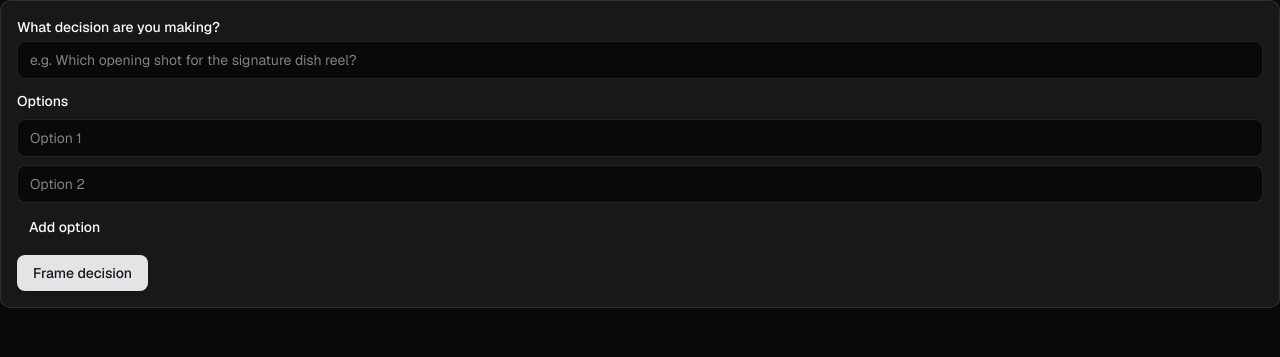
Test: NewDecisionForm › requires a question and at least two options
Type "Which opening?" into the field named "decision question".
click(640, 60); type("Which opening?")  # box [17,41,1263,79]
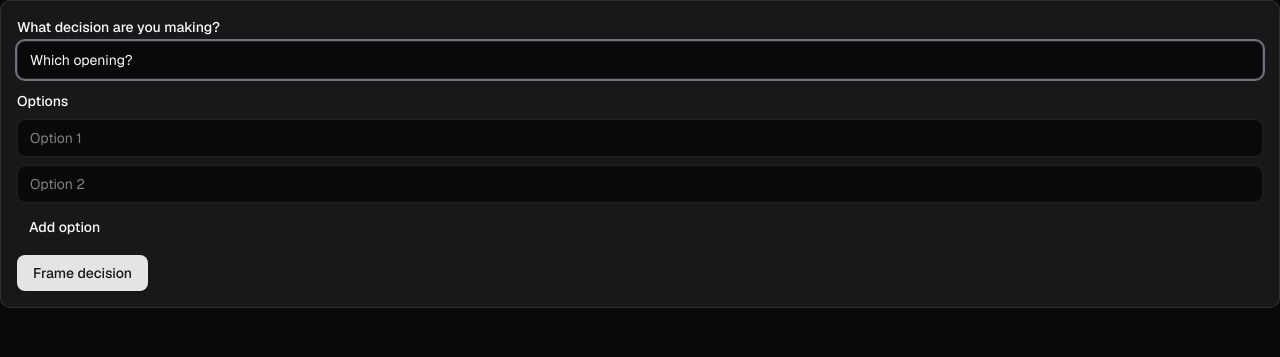
Type "Cold open" into the field labelled "Option 1".
click(640, 138); type("Cold open")  # box [17,119,1263,157]
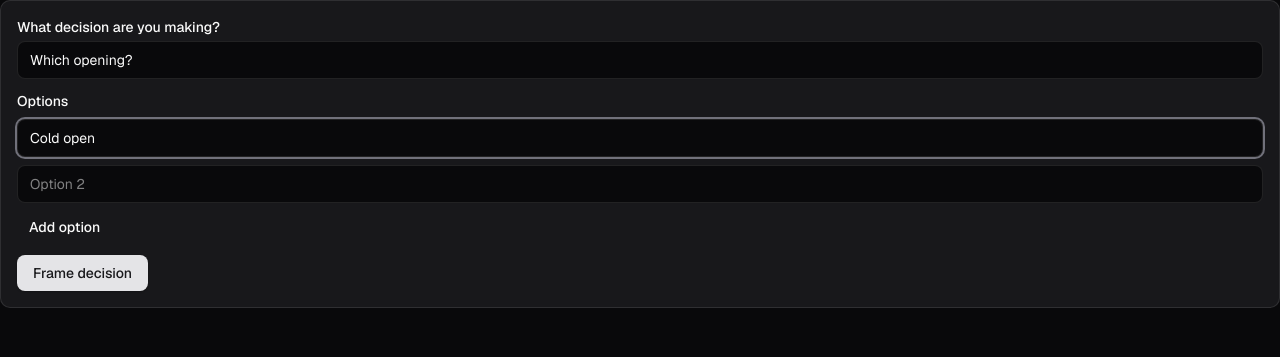
Only one option filled → invalid.
Click the button "Frame decision".
click(83, 273)  # box [17,255,148,291]
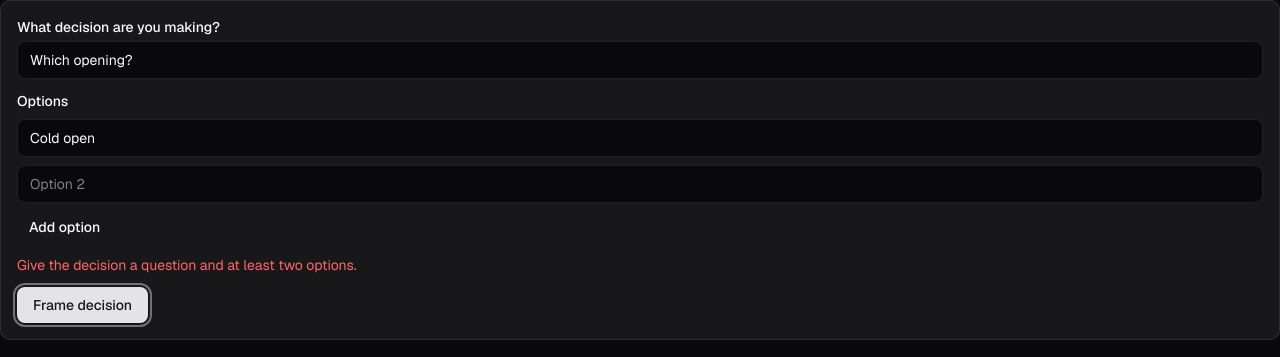
expect the message shows "at least two options": met, box [17,256,357,274]
